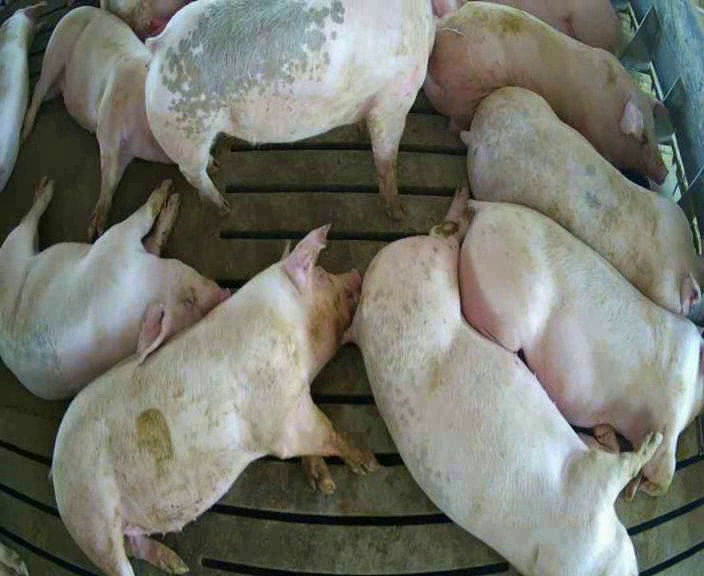pig: (346, 192, 661, 573), (54, 226, 377, 573), (459, 201, 703, 499), (145, 2, 434, 215), (461, 87, 703, 321), (0, 181, 227, 397), (424, 2, 665, 182), (23, 6, 170, 233), (0, 3, 45, 190)
